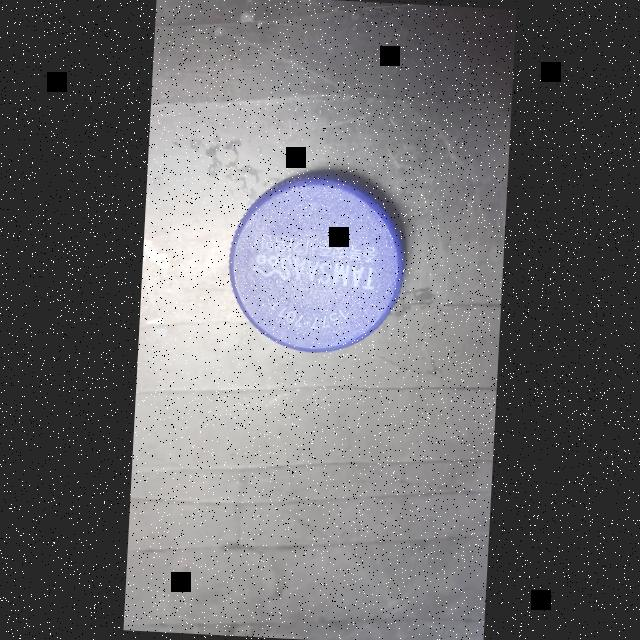plastic_bottle_cap: (224, 168, 410, 360)
